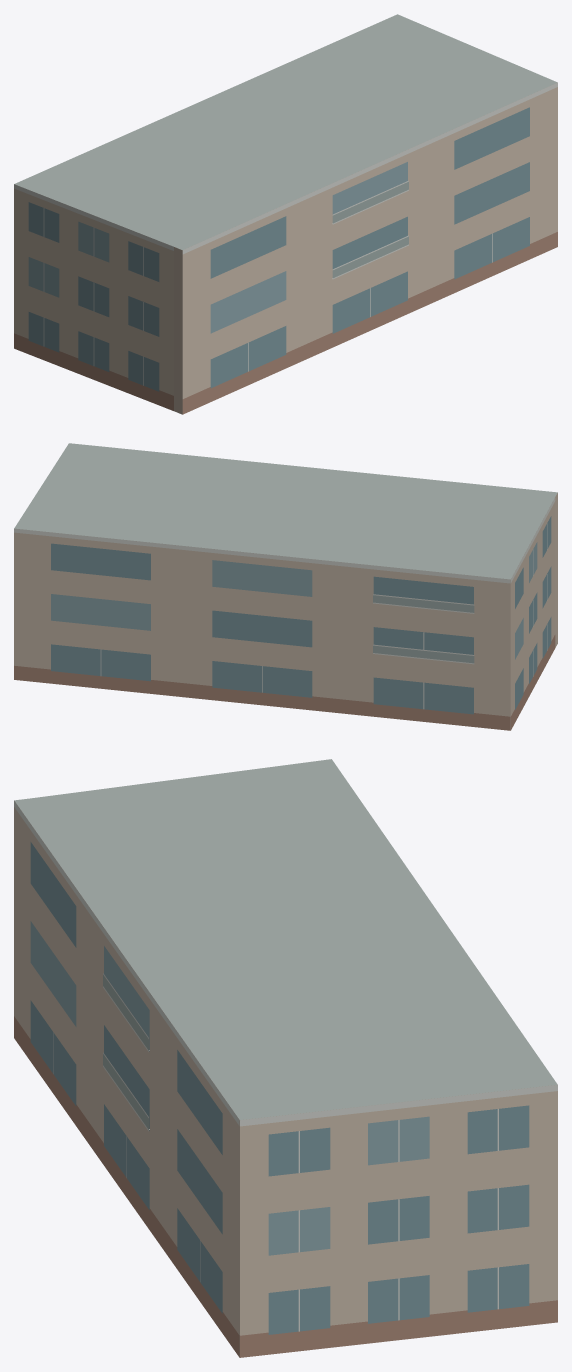
The model's file is survey-upis-32916018.glb.
3 renders of one model, top to bottom at view 1: azimuth 30°, elevation 25°; view 2: azimuth 150°, elevation 25°; view 3: azimuth 270°, elevation 25°, orthographic. The views are drawn at different scales.
Visible parts, largest first — view 1: survey-upis-32916018.tmp; view 2: survey-upis-32916018.tmp; view 3: survey-upis-32916018.tmp.
Boxes of the visible parts, box(x1,y1,x2,y2) form: survey-upis-32916018.tmp: box(14, 14, 557, 414); survey-upis-32916018.tmp: box(14, 443, 557, 730); survey-upis-32916018.tmp: box(14, 759, 557, 1357).
Bounding box in the file's own units: 29.82 × 9.15 × 18.98.
